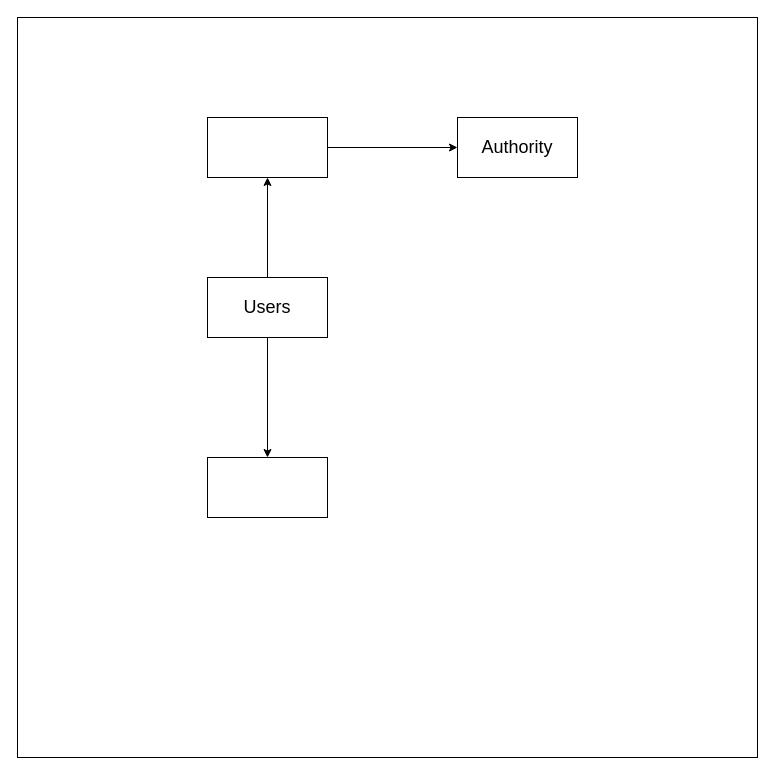
This 775x775 diagram has some shape labels left out. Each missing label, with the centre of its shape:
"MyListEntry" goes at point 267,487.
"Roles" goes at point 267,147.
